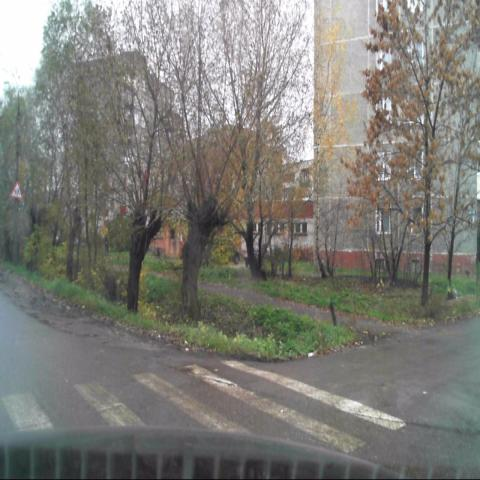1_23: (11, 179, 22, 200)
